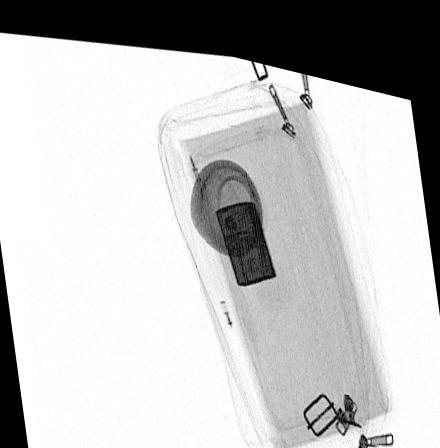Lighter: (215, 189, 278, 274)
